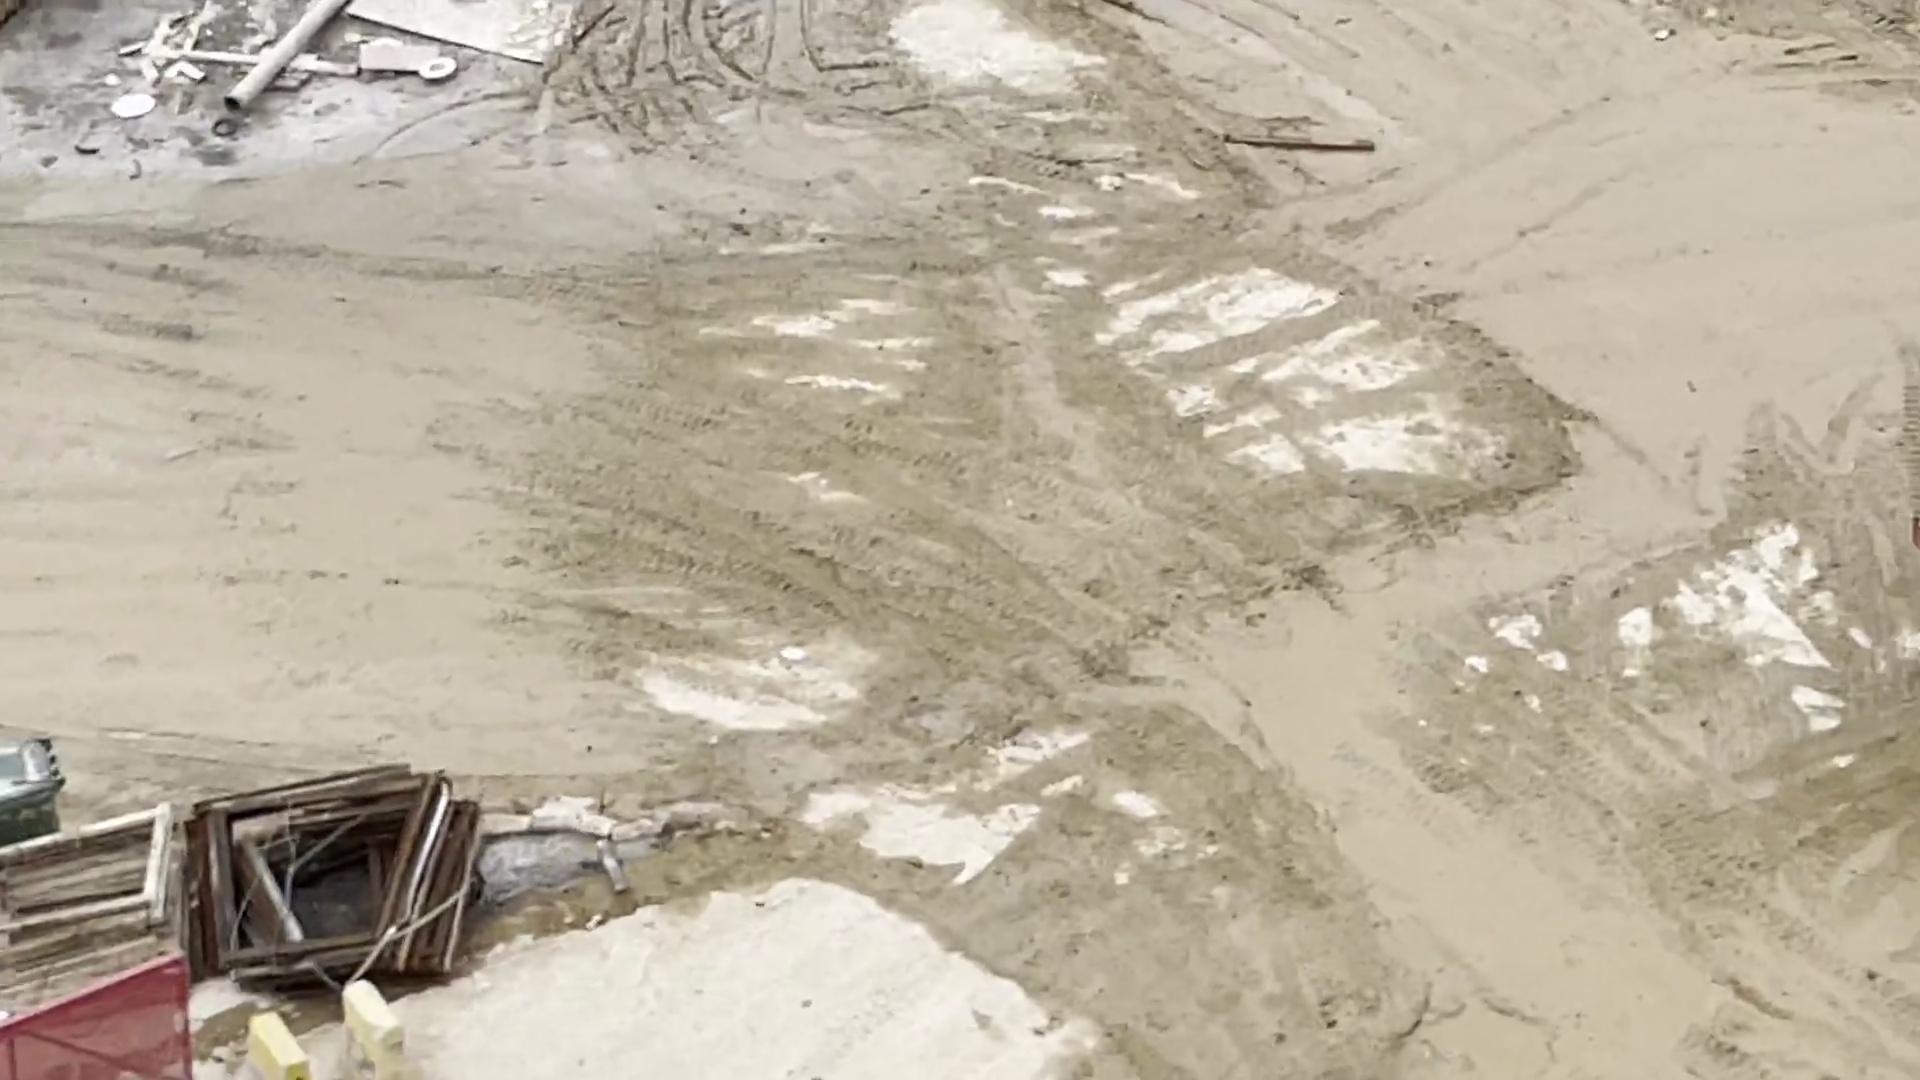fence: (1, 949, 207, 1065)
